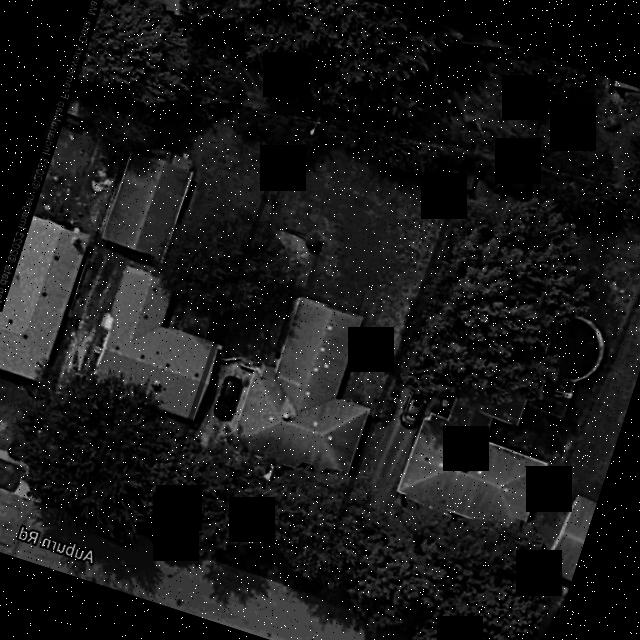Driveway: (186, 353, 255, 500)
Extra Driveway: (159, 497, 207, 554)
Extra Lawn: (191, 529, 322, 596), (199, 505, 330, 559), (149, 513, 176, 543), (159, 491, 184, 512)
Extra Sidewalk: (195, 519, 325, 573), (156, 504, 179, 521)
House: (231, 297, 370, 476)
Sidewalk: (221, 443, 276, 481)
